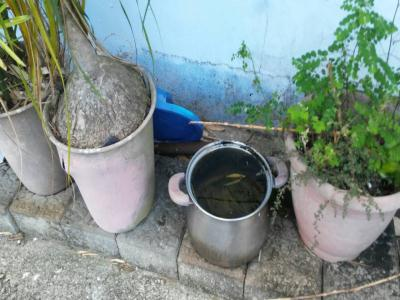bowl: (169, 138, 290, 269)
